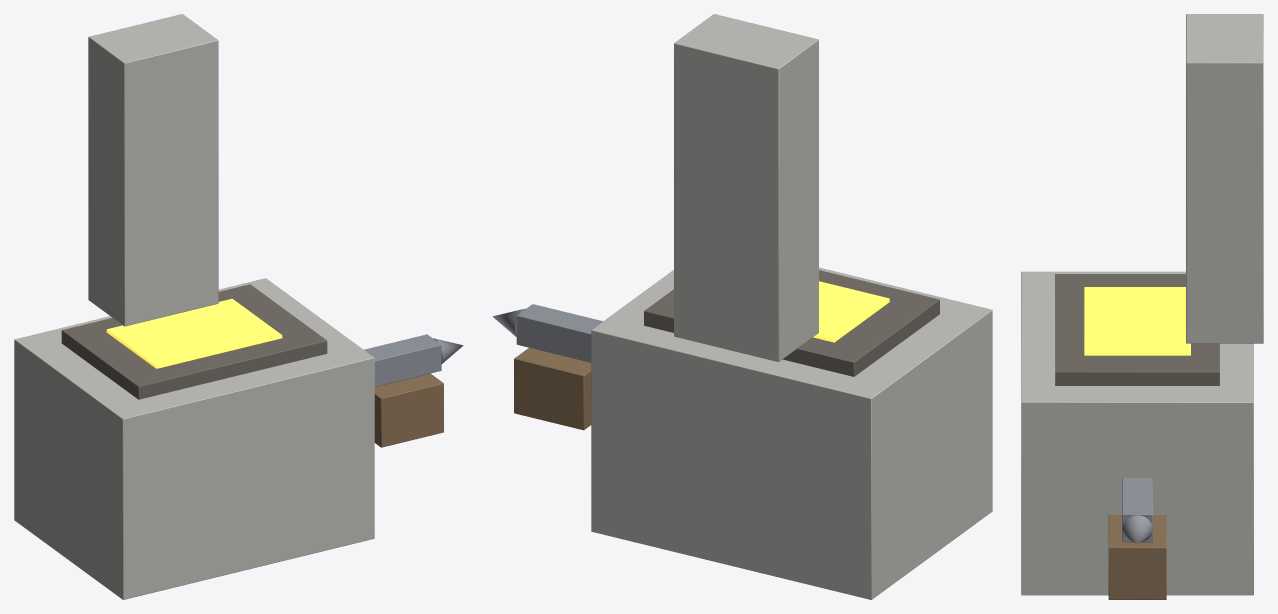
The model's file is SM_ST_ANVIL_FORGE.fbx.
The picture shows the model from 3 angles, left to right: view 1: azimuth 30°, elevation 25°; view 2: azimuth 150°, elevation 25°; view 3: azimuth 270°, elevation 25°; orthographic projection. The views are drawn at different scales.
Visible parts, largest first — view 1: SM_ST_ANVIL_FORGE; view 2: SM_ST_ANVIL_FORGE; view 3: SM_ST_ANVIL_FORGE.
Boxes of the visible parts, left/top/right/bottom form: SM_ST_ANVIL_FORGE: left=14, top=14, right=463, bottom=599; SM_ST_ANVIL_FORGE: left=492, top=14, right=992, bottom=599; SM_ST_ANVIL_FORGE: left=1021, top=14, right=1263, bottom=599.
Size of what is drawn, in the model's own units: 2.51 by 2.8 by 1.25.
